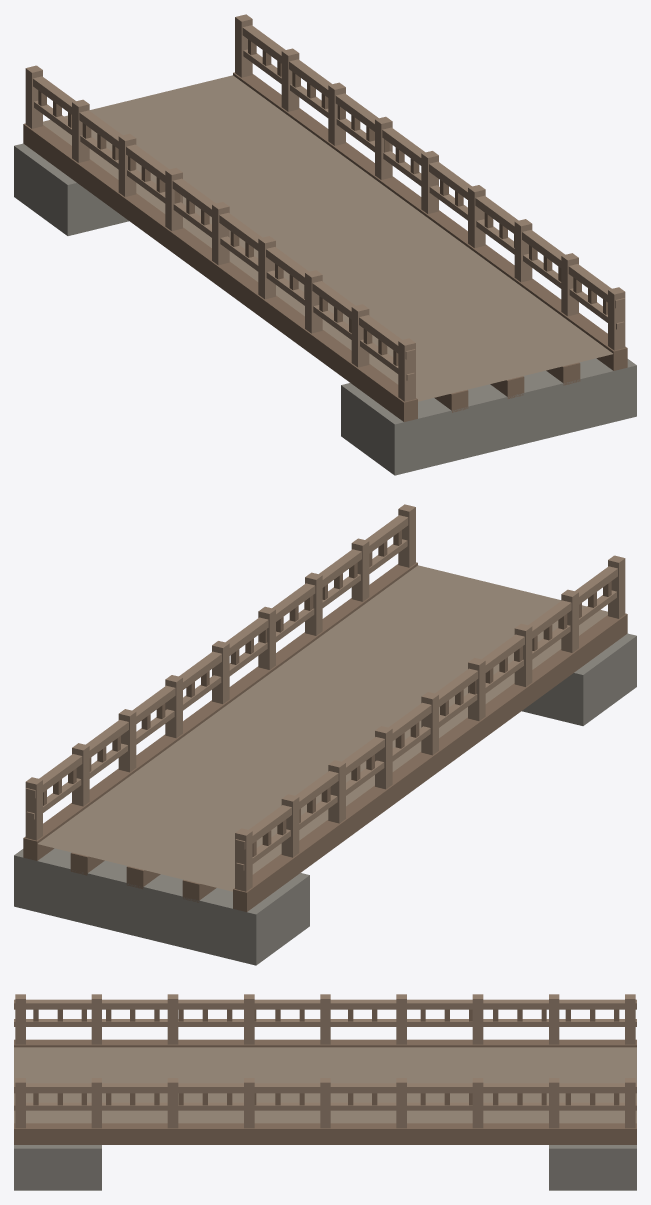
Rendered from nyc-binnen-bridge.glb.
The picture shows the model from 3 angles, top to bottom: view 1: azimuth 30°, elevation 25°; view 2: azimuth 150°, elevation 25°; view 3: azimuth 270°, elevation 25°; orthographic projection. The views are drawn at different scales.
Parts seen in each view (by area): view 1: Binnen Bridge; view 2: Binnen Bridge; view 3: Binnen Bridge.
Part boxes in pixels (x1,y1,x2,y2): Binnen Bridge: (14,14,636,475); Binnen Bridge: (14,504,636,965); Binnen Bridge: (14,994,636,1190).
Size of the model in its own units: 5.2 by 2.6 by 14.16.
